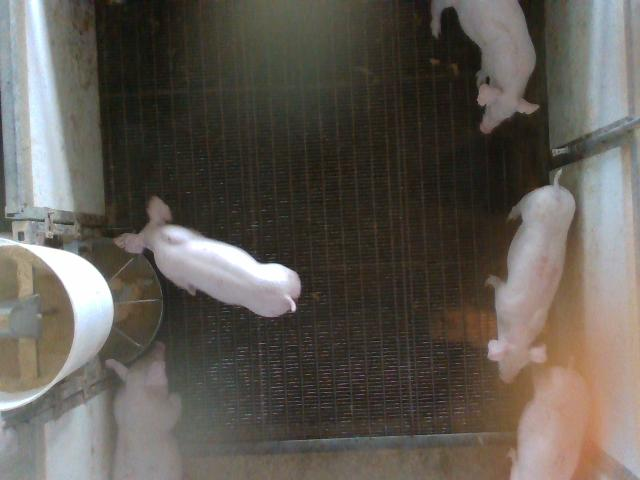pig-4: (486, 176, 575, 382)
